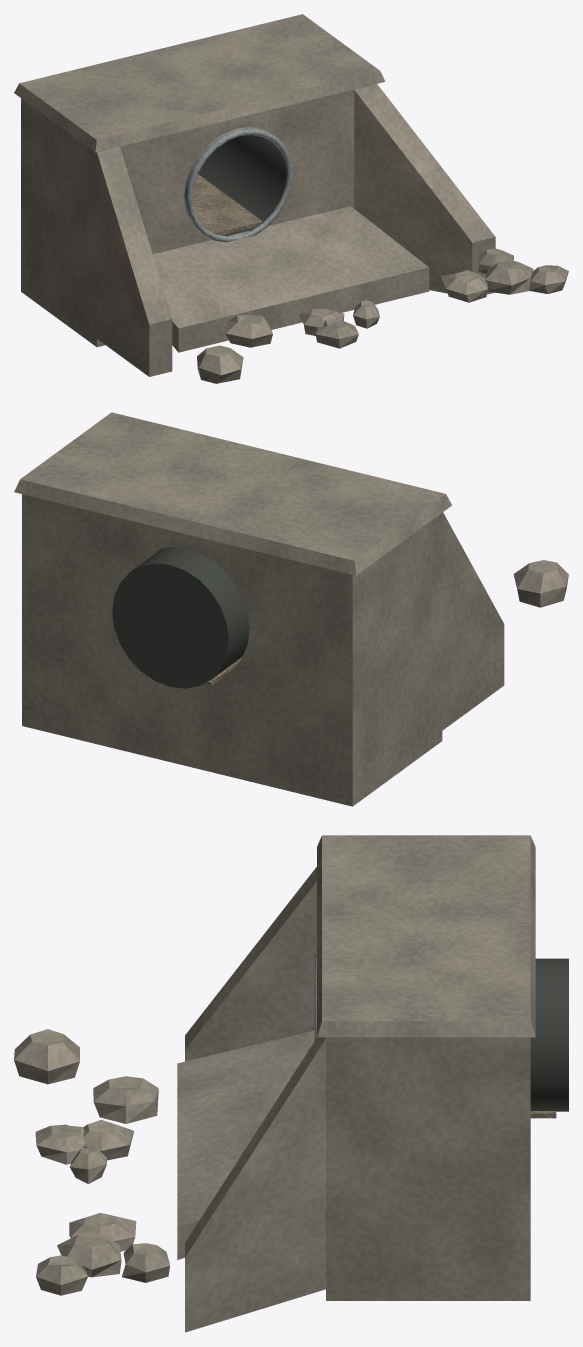
The model's file is SM_SubstationField_Culvert_LOD1.fbx.
3 views of the same model, one above another, from view 1: azimuth 30°, elevation 25°; view 2: azimuth 150°, elevation 25°; view 3: azimuth 270°, elevation 25° (orthographic). The views are drawn at different scales.
Parts seen in each view (by area): view 1: SM_SubstationField_Culvert_LOD1; view 2: SM_SubstationField_Culvert_LOD1; view 3: SM_SubstationField_Culvert_LOD1.
Boxes of the visible parts, x1,y1,x2,y2 form: SM_SubstationField_Culvert_LOD1: [14, 14, 568, 383]; SM_SubstationField_Culvert_LOD1: [14, 412, 568, 806]; SM_SubstationField_Culvert_LOD1: [14, 835, 568, 1332].
Bounding box in the file's own units: 2.3 × 2.17 × 1.21.
